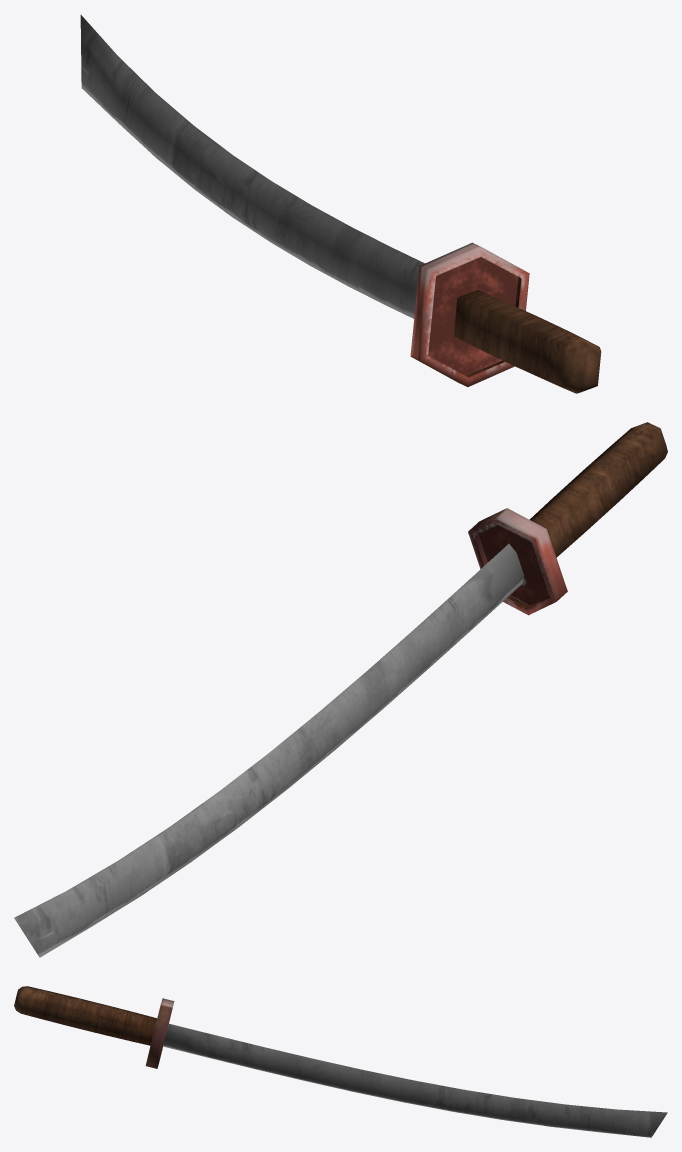
The model's file is Katana.fbx.
The picture shows the model from 3 angles, top to bottom: view 1: azimuth 30°, elevation 25°; view 2: azimuth 150°, elevation 25°; view 3: azimuth 270°, elevation 25°; orthographic projection. The views are drawn at different scales.
Visible parts, largest first — view 1: Katana; view 2: Katana; view 3: Katana.
Part boxes in pixels (bbox=[...]): Katana: bbox=[80, 14, 601, 393]; Katana: bbox=[14, 422, 667, 957]; Katana: bbox=[14, 986, 667, 1137].
Size of the model in its own units: 17.08 by 22.07 by 111.
